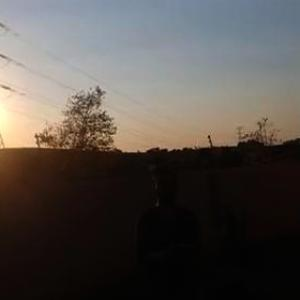follow: (133, 160, 208, 299)
